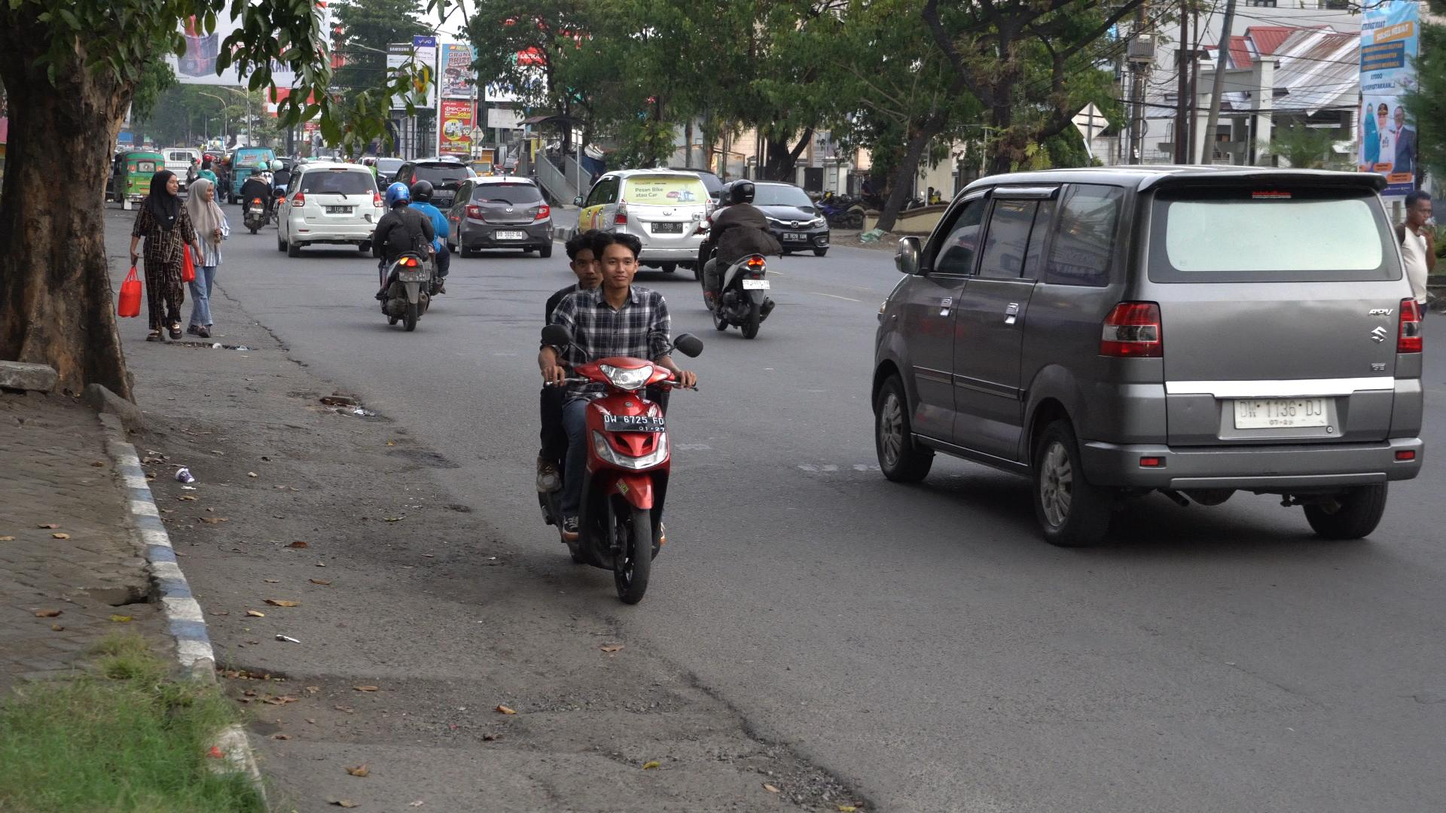number-plate: (605, 412, 667, 433)
